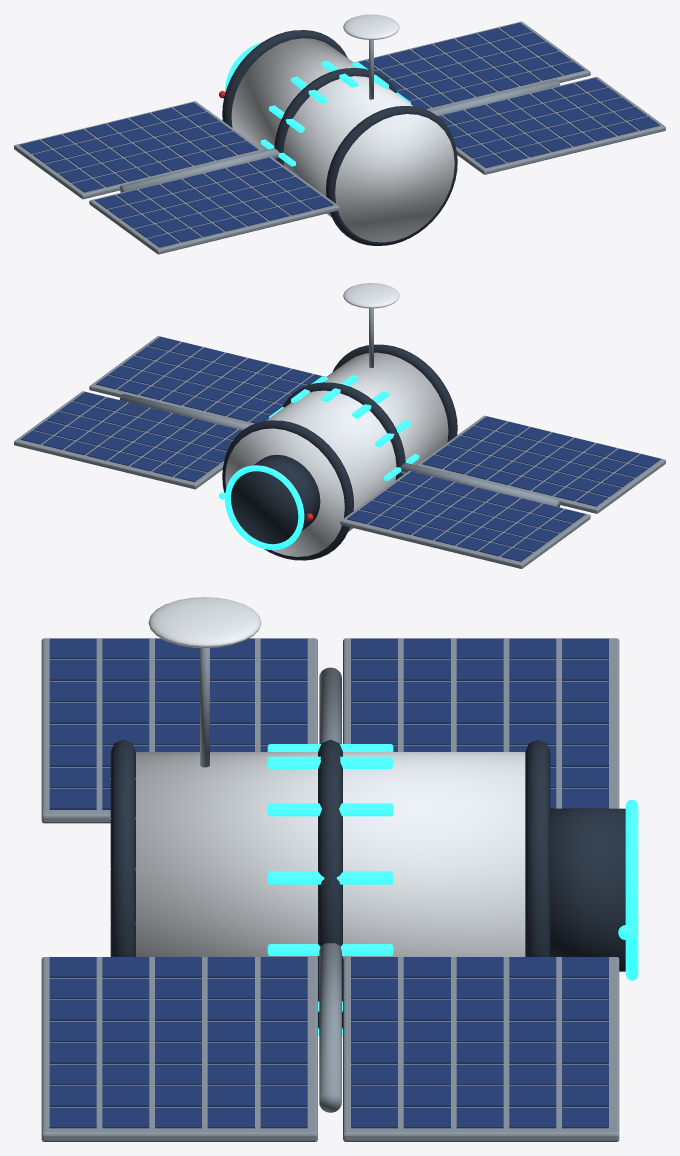
Rendered from orbital-station.glb.
3 renders of one model, top to bottom at view 1: azimuth 30°, elevation 25°; view 2: azimuth 150°, elevation 25°; view 3: azimuth 270°, elevation 25°, orthographic. The views are drawn at different scales.
Parts seen in each view (by area): view 1: Static_Photovoltaic blue, Static_Pearl ceramic white.001, Static_Brushed titanium.001, Static_Graphite panels.001, Static_Ion cyan emission.001; view 2: Static_Photovoltaic blue, Static_Pearl ceramic white.001, Static_Brushed titanium.001, Static_Graphite panels.001, Static_Ion cyan emission.001; view 3: Static_Photovoltaic blue, Static_Pearl ceramic white.001, Static_Brushed titanium.001, Static_Graphite panels.001, Static_Ion cyan emission.001.
Part boxes in pixels (x1,y1,x2,y2): Static_Photovoltaic blue: (20, 22, 659, 247); Static_Pearl ceramic white.001: (231, 14, 454, 242); Static_Brushed titanium.001: (14, 21, 665, 254); Static_Graphite panels.001: (222, 30, 457, 245); Static_Ion cyan emission.001: (225, 42, 410, 166); Static_Photovoltaic blue: (20, 336, 660, 561); Static_Pearl ceramic white.001: (225, 283, 448, 556); Static_Brushed titanium.001: (14, 308, 665, 568); Static_Graphite panels.001: (222, 344, 457, 560); Static_Ion cyan emission.001: (219, 375, 419, 549); Static_Photovoltaic blue: (49, 638, 608, 1128); Static_Pearl ceramic white.001: (110, 597, 525, 958); Static_Brushed titanium.001: (41, 638, 619, 1141); Static_Graphite panels.001: (110, 739, 625, 1028); Static_Ion cyan emission.001: (267, 744, 638, 1036).
Size of the model in its own units: 18.7 by 7.26 by 9.5.
